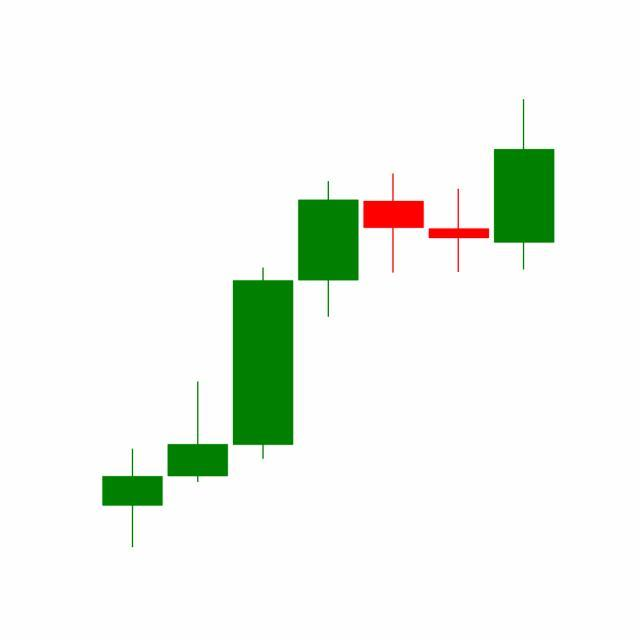Hikkake Pattern: (229, 100, 555, 465)
